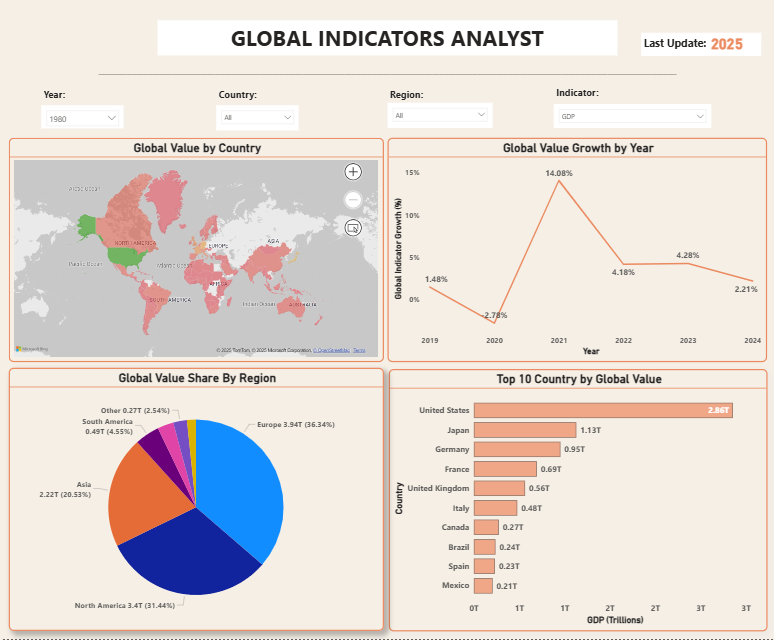

The dashboard page shown, as its layout file describes it:
{"tool":"powerbi","page":{"name":"Global Indicators Analyst","canvas":[1550,1280],"ordinal":0},"visuals":[{"type":"textbox","box":[81.7,173.3,68.3,40],"z":0},{"type":"textbox","box":[431.7,171.7,95,43.3],"z":1000},{"type":"slicer","fields":{"Values":["global_indicators.Country"]},"box":[431.7,213.3,165,50],"z":2000},{"type":"textbox","box":[315,43.3,920,70],"z":3000},{"type":"textbox","box":[165,130,1220,43.3],"z":4000},{"type":"slicer","fields":{"Values":["global_indicators.Year"]},"box":[81.7,213.3,165,46.7],"z":5000},{"type":"clusteredBarChart","title":"Top 10 Country by Global Value","fields":{"Category":["global_indicators.Country"],"Y":["Indicator.Selected Indicator Value"]},"box":[776.2,738.8,757.5,525],"z":6000},{"type":"filledMap","title":"Global Value by Country","fields":{"Category":["global_indicators.Country"],"Y":["Indicator.Selected Indicator Value"]},"box":[16.2,276.2,750,448.8],"z":7000},{"type":"pieChart","title":"Global Value Share By Region","fields":{"Category":["dim_country.region"],"Y":["Indicator.Selected Indicator Value"]},"box":[16.2,737.5,750,526.2],"z":8000},{"type":"textbox","box":[1283.3,66.7,240,46.7],"z":9000},{"type":"card","fields":{"Values":["#Measure Manager.Last Update"]},"box":[1385,66.7,138.3,41.7],"z":10000},{"type":"lineChart","title":"Global Value Growth by Year","fields":{"Category":["dim_year.Year"],"Y":["#Measure Manager.Global Indicator Growth (%)"]},"box":[775.6,276.7,758.9,448.9],"z":11000},{"type":"slicer","fields":{"Values":["Indicator.indicator_name"]},"box":[1106.7,210,315,48.3],"z":12000},{"type":"textbox","box":[1106.7,170,95,43.3],"z":13000},{"type":"textbox","box":[775,171.7,95,43.3],"z":14000},{"type":"slicer","fields":{"Values":["dim_country.region"]},"box":[775,208.3,210,50],"z":15000}]}

Visuals, with their boxes in screenshot pixels (x1, y1, x2, y2), scaled from the page's 1550x1280 canvas onto the 774x640 screenshot:
textbox: {"x1": 41, "y1": 87, "x2": 75, "y2": 107}
textbox: {"x1": 216, "y1": 86, "x2": 263, "y2": 108}
slicer - global_indicators.Country: {"x1": 216, "y1": 107, "x2": 298, "y2": 132}
textbox: {"x1": 157, "y1": 22, "x2": 617, "y2": 57}
textbox: {"x1": 82, "y1": 65, "x2": 692, "y2": 87}
slicer - global_indicators.Year: {"x1": 41, "y1": 107, "x2": 123, "y2": 130}
"Top 10 Country by Global Value" clusteredBarChart: {"x1": 388, "y1": 369, "x2": 766, "y2": 632}
"Global Value by Country" filledMap: {"x1": 8, "y1": 138, "x2": 383, "y2": 362}
"Global Value Share By Region" pieChart: {"x1": 8, "y1": 369, "x2": 383, "y2": 632}
textbox: {"x1": 641, "y1": 33, "x2": 761, "y2": 57}
card - #Measure Manager.Last Update: {"x1": 692, "y1": 33, "x2": 761, "y2": 54}
"Global Value Growth by Year" lineChart: {"x1": 387, "y1": 138, "x2": 766, "y2": 363}
slicer - Indicator.indicator_name: {"x1": 553, "y1": 105, "x2": 710, "y2": 129}
textbox: {"x1": 553, "y1": 85, "x2": 600, "y2": 107}
textbox: {"x1": 387, "y1": 86, "x2": 434, "y2": 108}
slicer - dim_country.region: {"x1": 387, "y1": 104, "x2": 492, "y2": 129}
